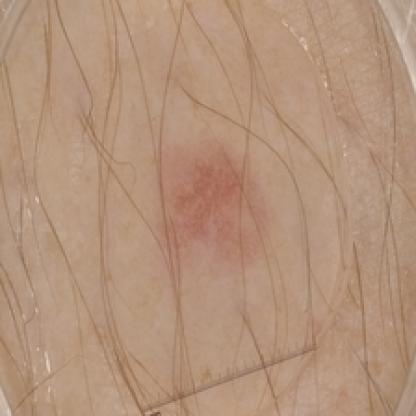Skin_Cancer-Malignant: (161, 146, 269, 277)
